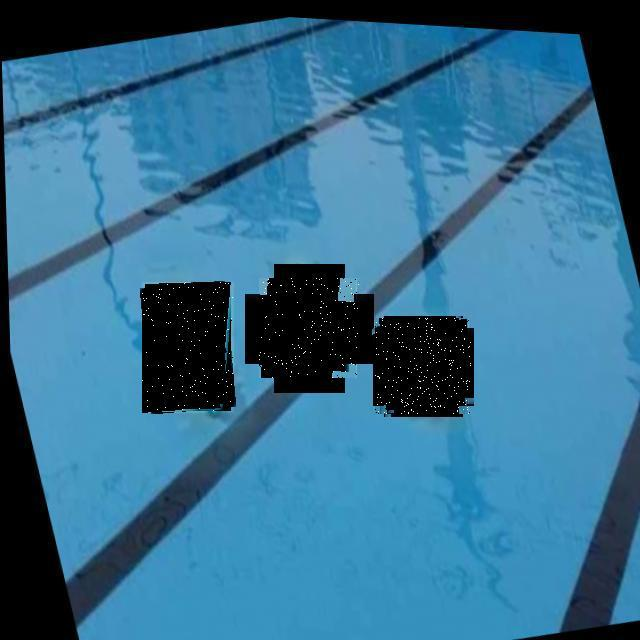swimming: (142, 282, 234, 413), (260, 278, 360, 378), (376, 318, 472, 414)
